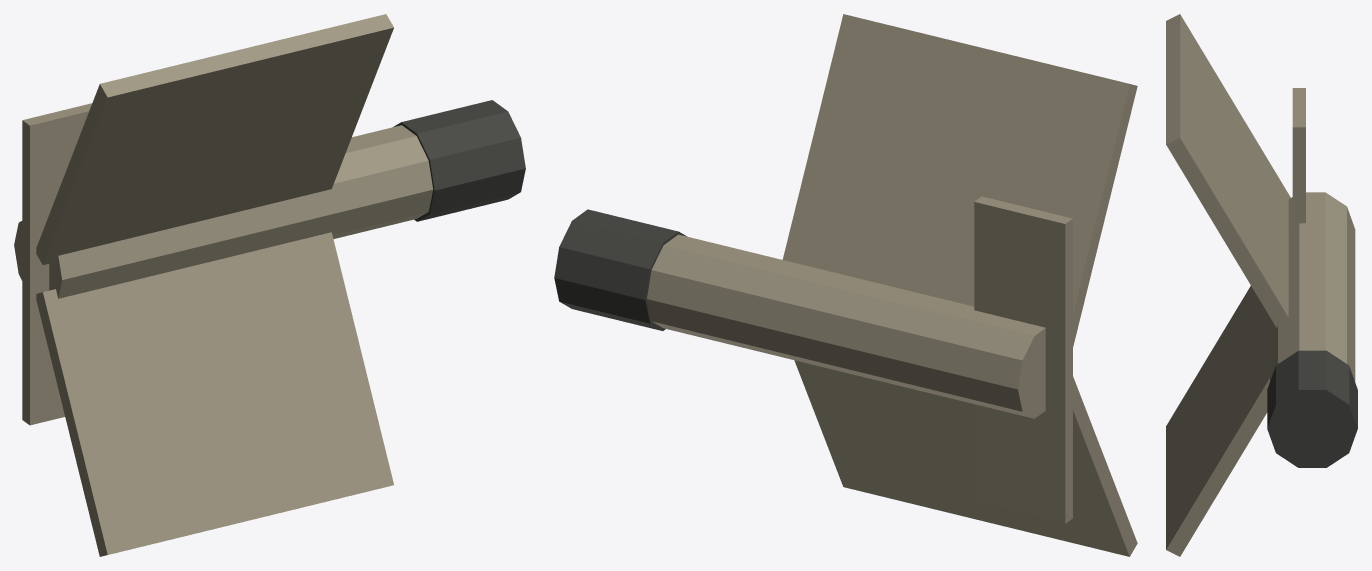
The model's file is loitering.glb.
3 views of the same model, side by side, from view 1: azimuth 30°, elevation 25°; view 2: azimuth 150°, elevation 25°; view 3: azimuth 270°, elevation 25° (orthographic). The views are drawn at different scales.
Parts seen in each view (by area): view 1: geometry_0; view 2: geometry_0; view 3: geometry_0.
Boxes of the visible parts, bbox=[...] form: geometry_0: bbox=[14, 14, 525, 556]; geometry_0: bbox=[554, 14, 1137, 556]; geometry_0: bbox=[1166, 14, 1357, 556].
Size of the model in its own units: 1.85 by 1.74 by 0.7196.
